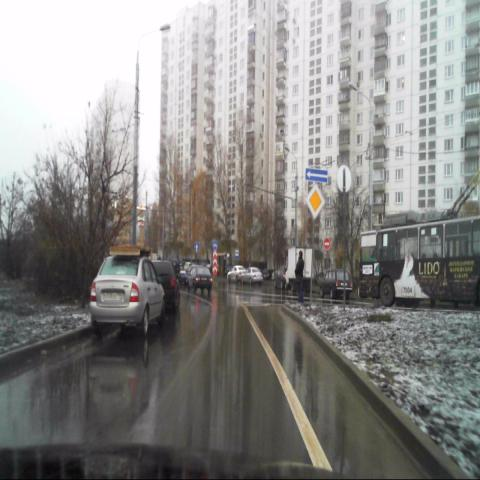2_1: (306, 184, 326, 220)
5_7_2: (306, 168, 328, 183)
